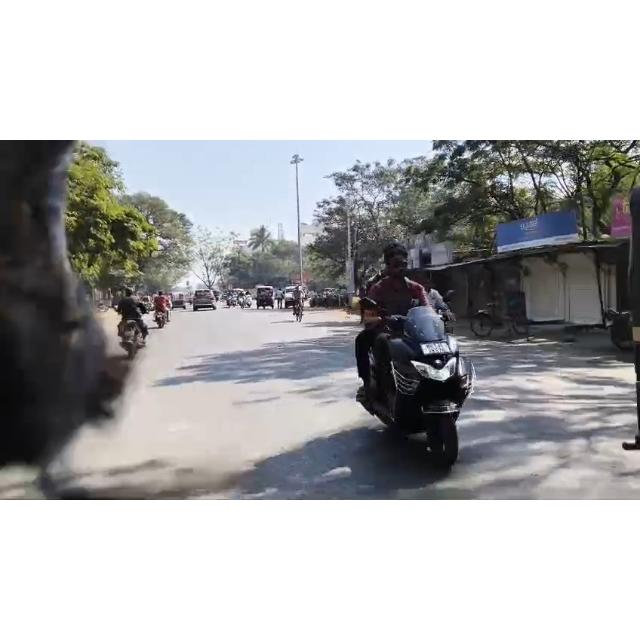auto: (256, 286, 278, 311), (170, 292, 187, 310)
car: (192, 286, 220, 314)
